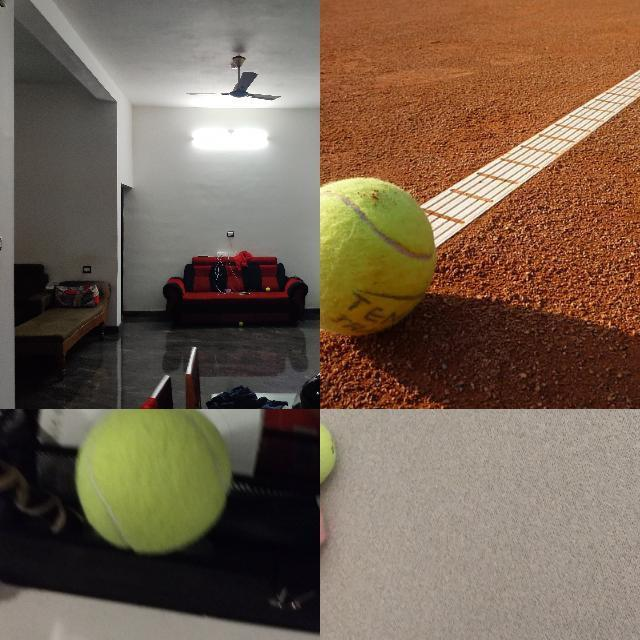tennis-ball: (74, 409, 233, 554), (320, 176, 437, 338), (320, 416, 336, 490), (266, 287, 270, 291), (238, 321, 242, 325)
